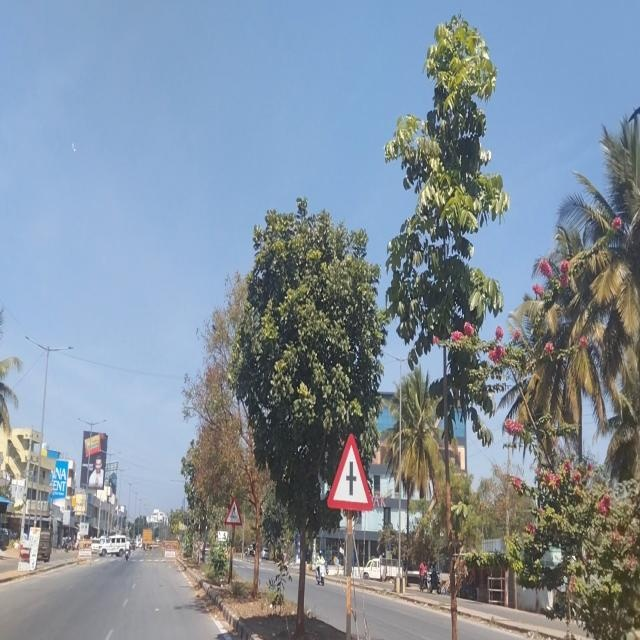bien_nguy_hiem: (326, 432, 374, 510), (225, 497, 242, 526)
